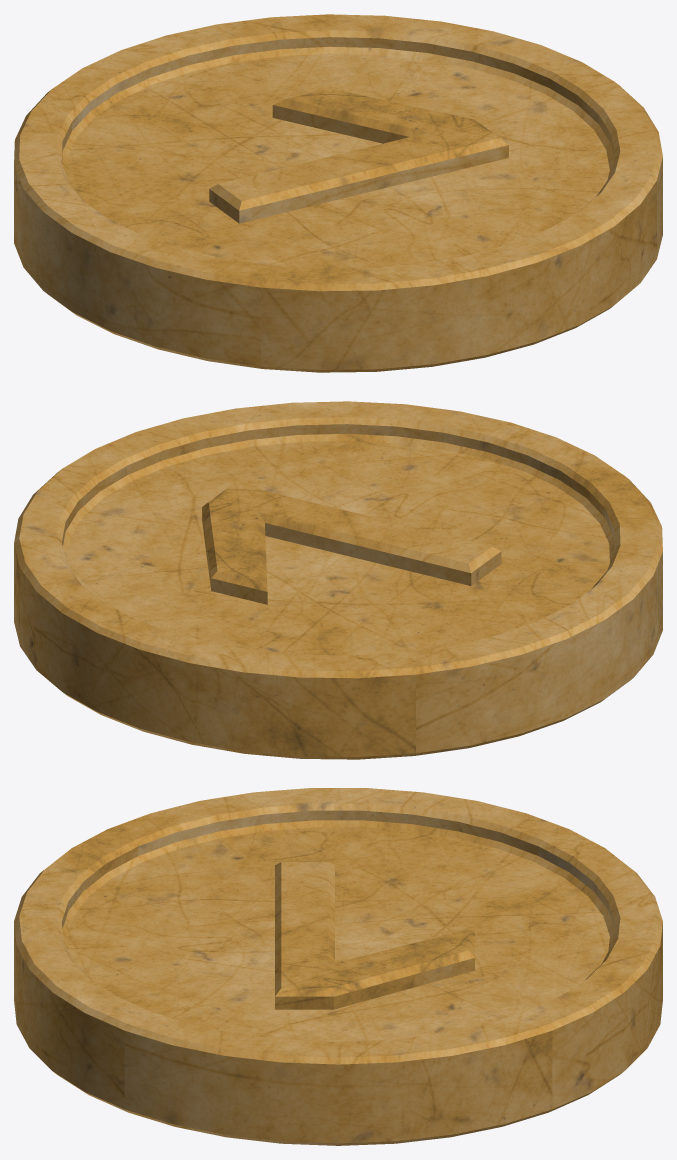
Rendered from Coin.fbx.
The picture shows the model from 3 angles, top to bottom: view 1: azimuth 30°, elevation 25°; view 2: azimuth 150°, elevation 25°; view 3: azimuth 270°, elevation 25°; orthographic projection.
Parts seen in each view (by area): view 1: Coin_LOD0; view 2: Coin_LOD0; view 3: Coin_LOD0.
Boxes of the visible parts, x1,y1,x2,y2 form: Coin_LOD0: (14, 14, 662, 372); Coin_LOD0: (14, 401, 662, 759); Coin_LOD0: (14, 788, 662, 1145).
Size of the model in its own units: 9.98 by 9.99 by 1.5.
1 material, 1 textured.
